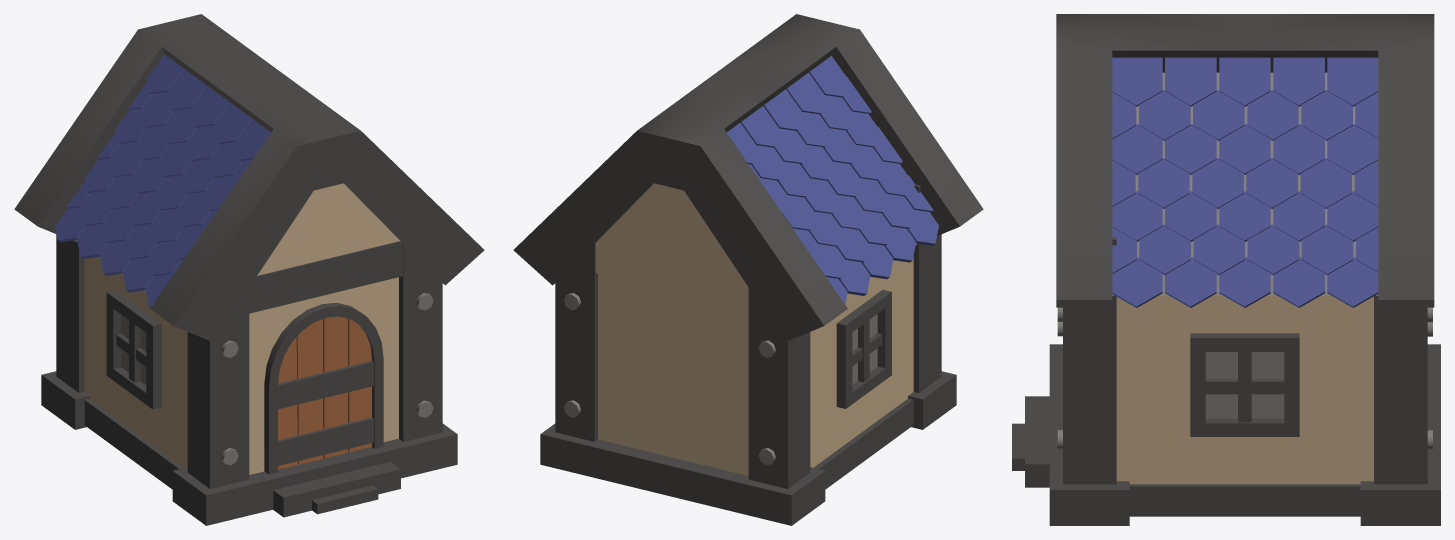
The model's file is Tavern.fbx.
3 renders of one model, left to right at view 1: azimuth 30°, elevation 25°; view 2: azimuth 150°, elevation 25°; view 3: azimuth 270°, elevation 25°, orthographic. The views are drawn at different scales.
Parts seen in each view (by area): view 1: Tavern.001; view 2: Tavern.001; view 3: Tavern.001.
Part boxes in pixels (x1,y1,x2,y2): Tavern.001: (14,14,484,525); Tavern.001: (513,14,983,525); Tavern.001: (1012,14,1440,525).
Bounding box in the file's own units: 320 × 350 × 322.
